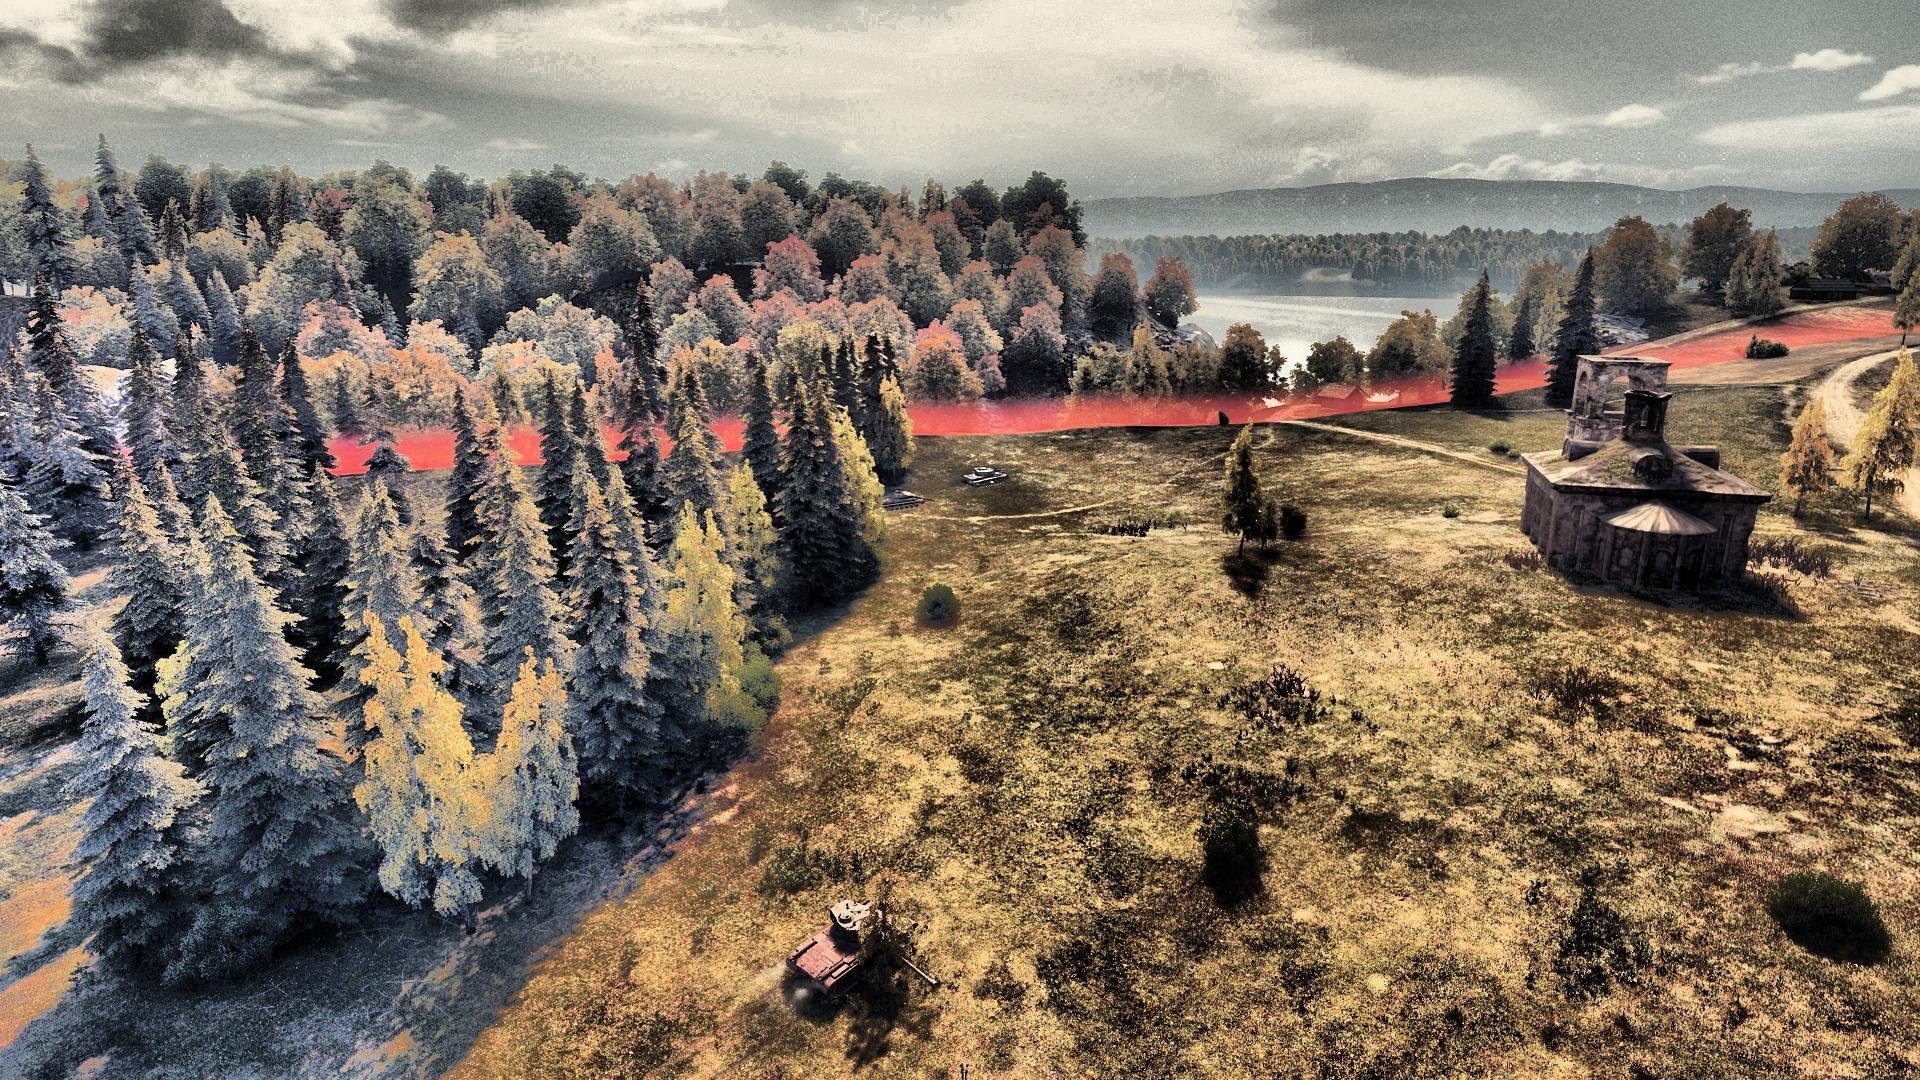military-vehicle: (785, 895, 936, 1002), (874, 489, 935, 512), (960, 467, 1015, 487)
